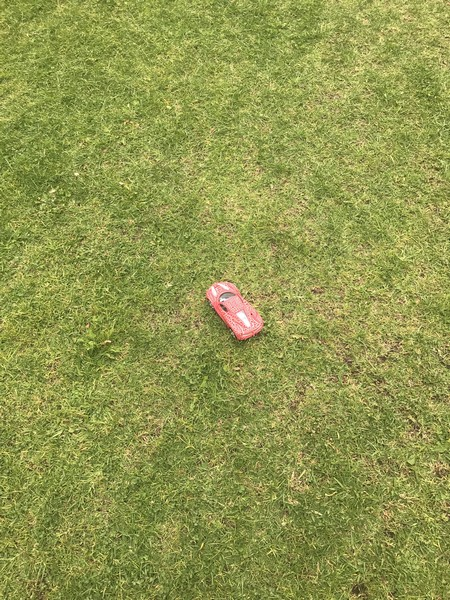RC: (202, 279, 268, 344)
